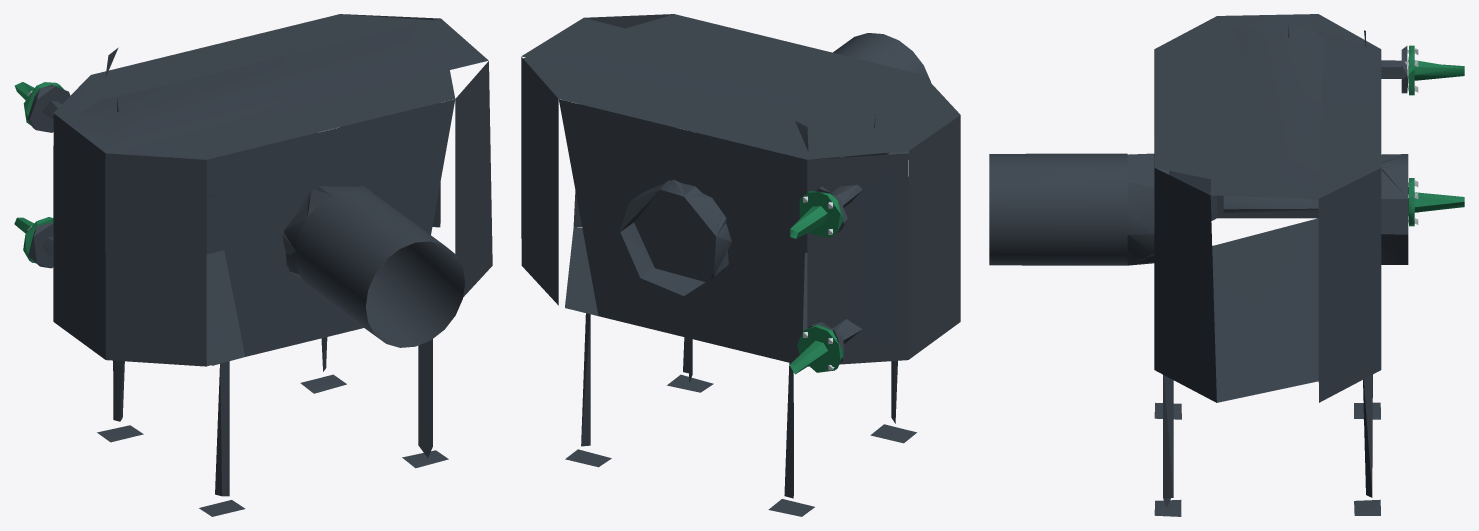
The model's file is economizer.glb.
The picture shows the model from 3 angles, left to right: view 1: azimuth 30°, elevation 25°; view 2: azimuth 150°, elevation 25°; view 3: azimuth 270°, elevation 25°; orthographic projection. The views are drawn at different scales.
Visible parts, largest first — view 1: economizer, flue_spacer, eco_inlet_adapter; view 2: economizer, eco_inlet_adapter, flue_spacer; view 3: economizer, flue_spacer, eco_inlet_adapter.
Boxes of the visible parts, x1,y1,x2,y2 form: economizer: (27, 14, 492, 516); flue_spacer: (295, 189, 465, 347); eco_inlet_adapter: (14, 82, 64, 263); economizer: (521, 14, 960, 516); eco_inlet_adapter: (789, 190, 843, 374); flue_spacer: (833, 33, 930, 82); economizer: (1127, 14, 1408, 516); flue_spacer: (989, 153, 1127, 265); eco_inlet_adapter: (1404, 45, 1464, 226).
Size of the model in its own units: 1.58 by 1.51 by 1.72.
